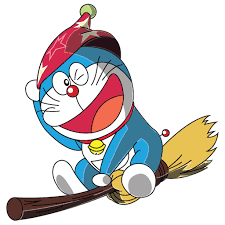doraemon: (25, 44, 165, 199)
